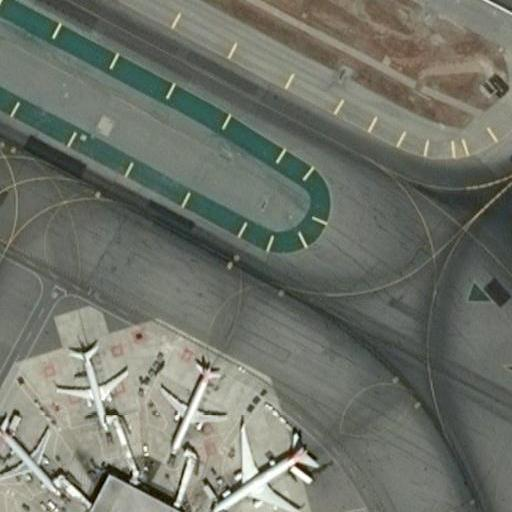Aircraft: (209, 419, 322, 512), (53, 329, 126, 426), (0, 411, 59, 499)
